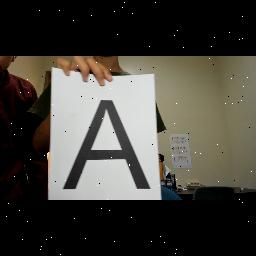a: (59, 93, 157, 193)
